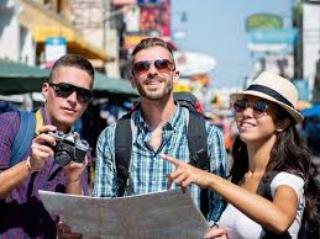person - v3 P: (104, 28, 220, 239), (221, 60, 319, 239), (5, 53, 99, 239)
